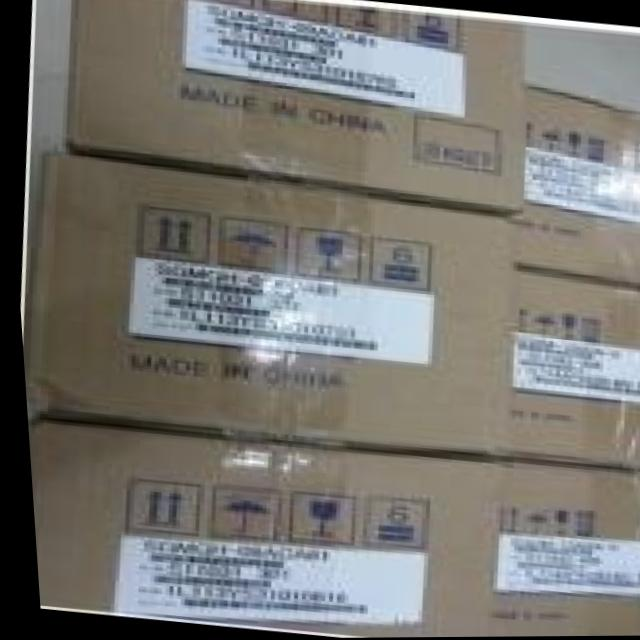box: (22, 149, 517, 462), (22, 421, 495, 638), (63, 0, 526, 219), (470, 456, 640, 637), (491, 269, 640, 470), (512, 84, 640, 291)
